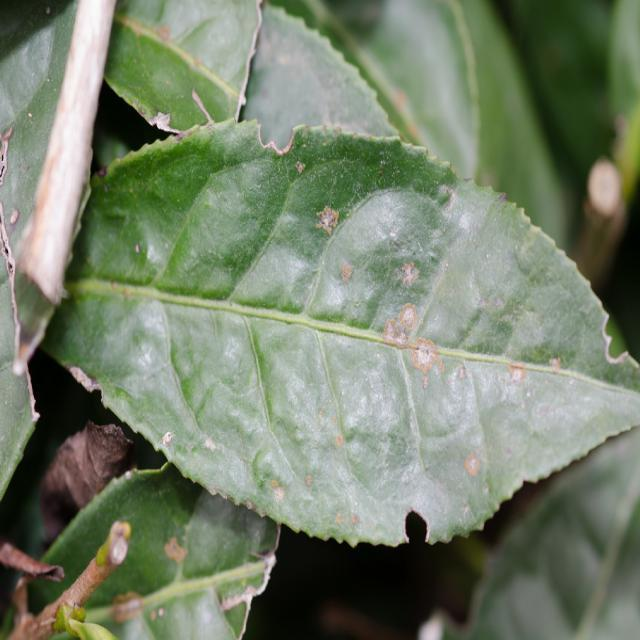Tea algae leaf spot: (281, 180, 569, 496)
